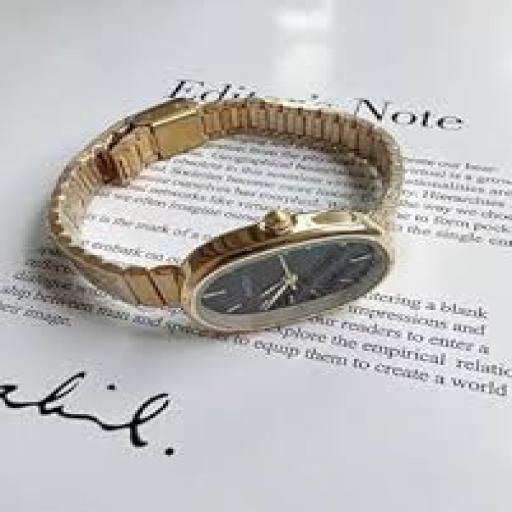KolSaati: (35, 67, 414, 330)
